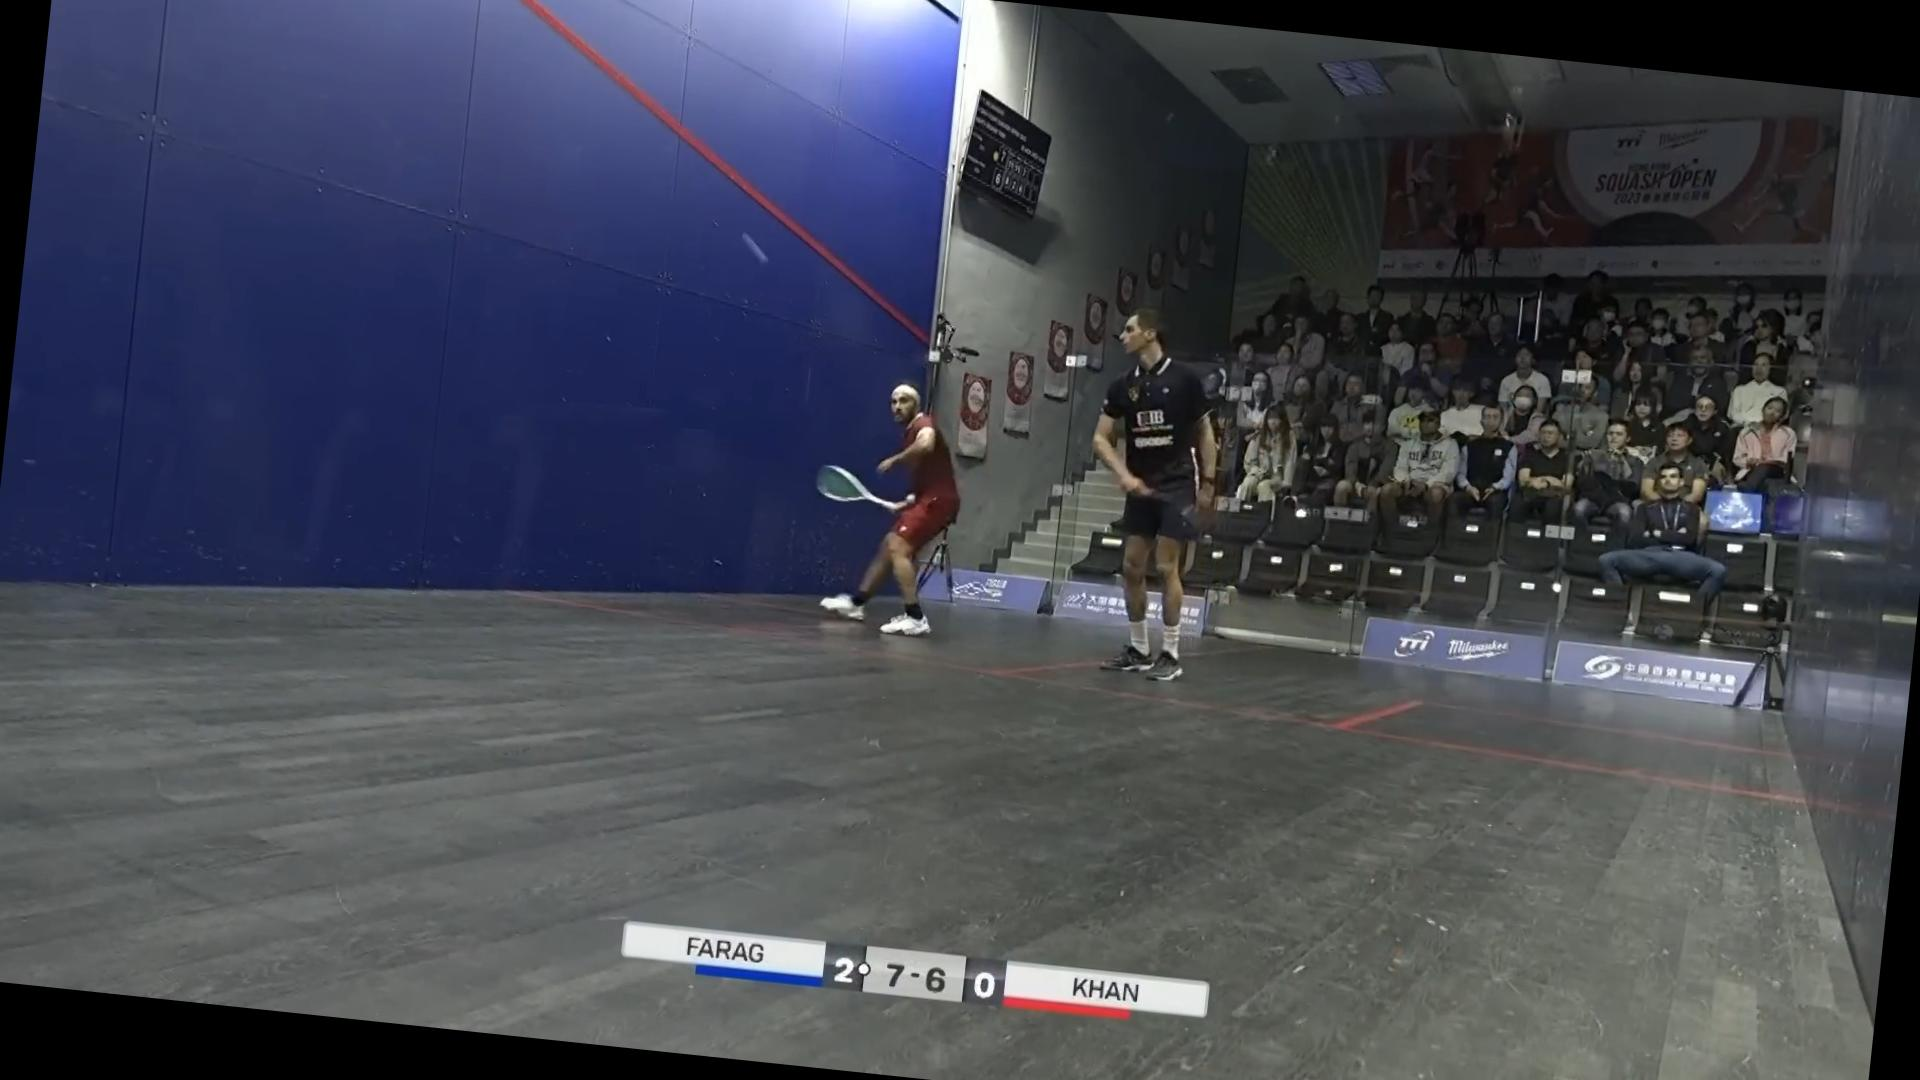Racket: (804, 454, 905, 531)
